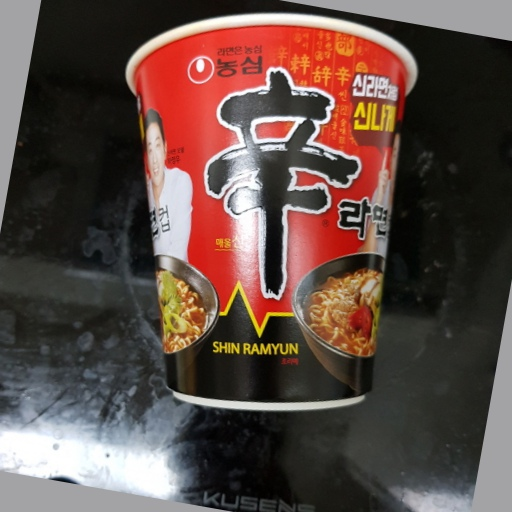Paper_1: (117, 10, 420, 411)
